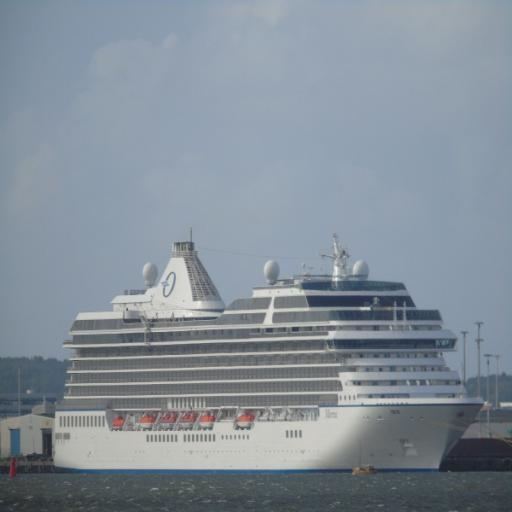cruises: (46, 240, 492, 479)
